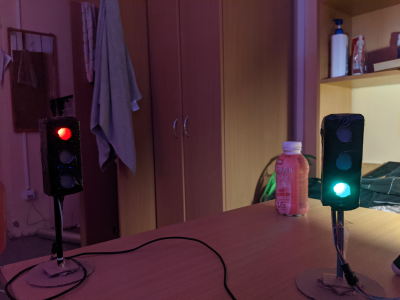trafficlight_green: (322, 116, 361, 207)
trafficlight_red: (47, 120, 81, 194)
